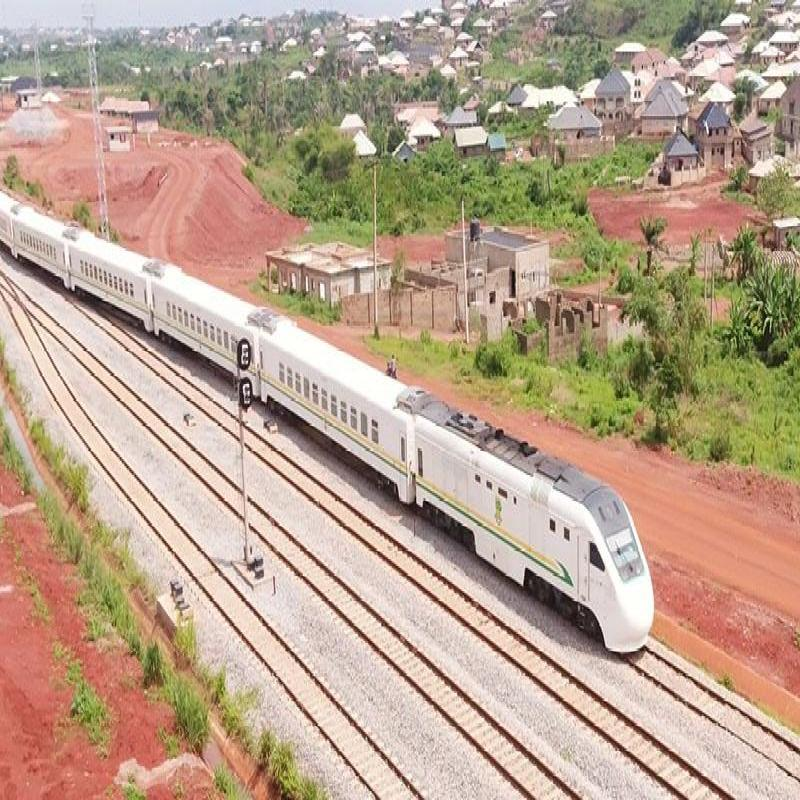train: (20, 147, 661, 617)
